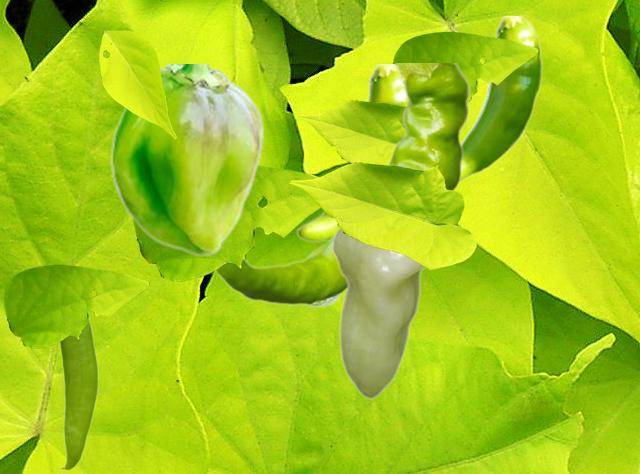green_chili: (214, 63, 470, 307), (110, 64, 264, 256), (295, 64, 405, 242), (329, 228, 425, 398), (461, 16, 542, 184), (57, 314, 97, 470)
